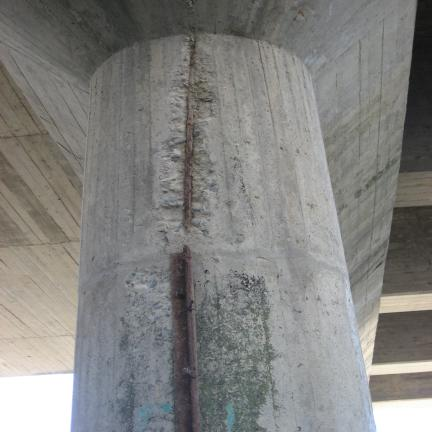Exposed Rebar: (162, 38, 213, 231), (166, 247, 198, 432)
pier bridge: (70, 37, 384, 432)
spalling: (114, 269, 163, 427)
stain: (196, 276, 269, 432)
